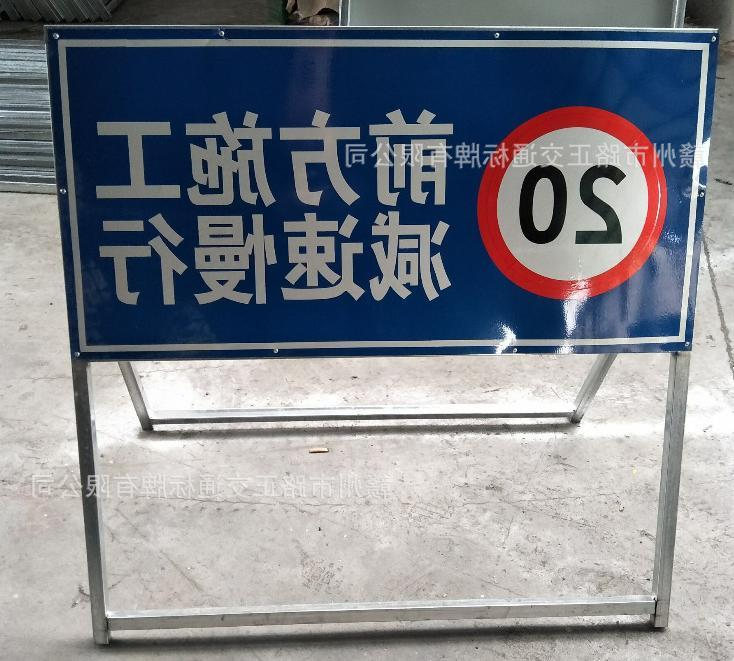sign: (52, 26, 714, 361)
